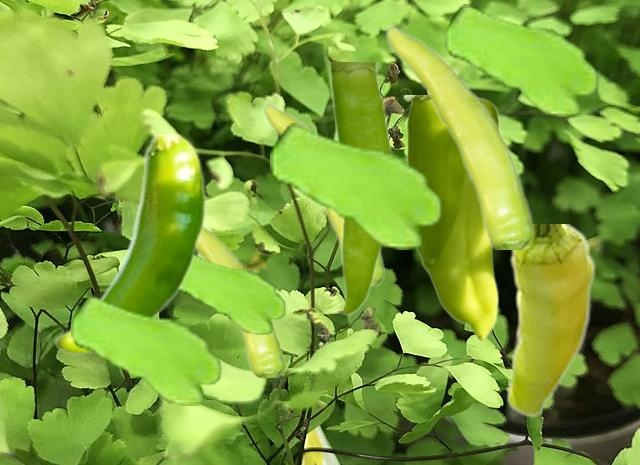green_chili: (53, 134, 206, 355), (385, 23, 532, 248), (402, 95, 498, 339), (263, 101, 383, 285), (505, 224, 595, 417), (327, 62, 392, 315), (198, 226, 283, 376)
